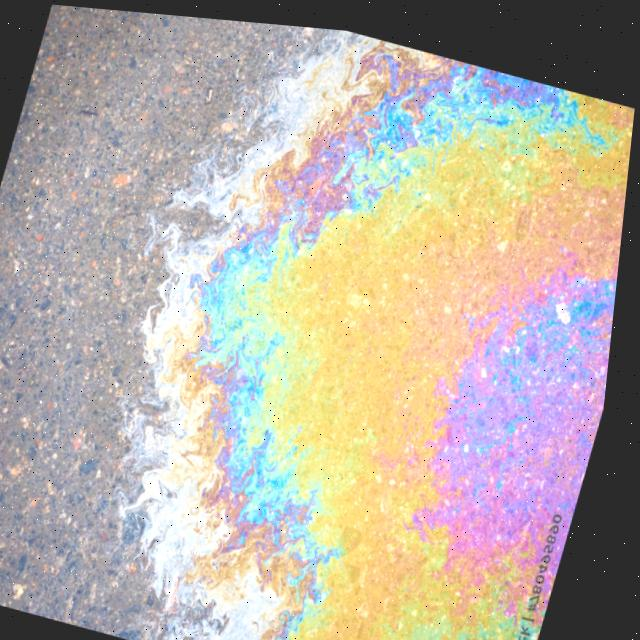corrosion: (42, 124, 607, 640)
